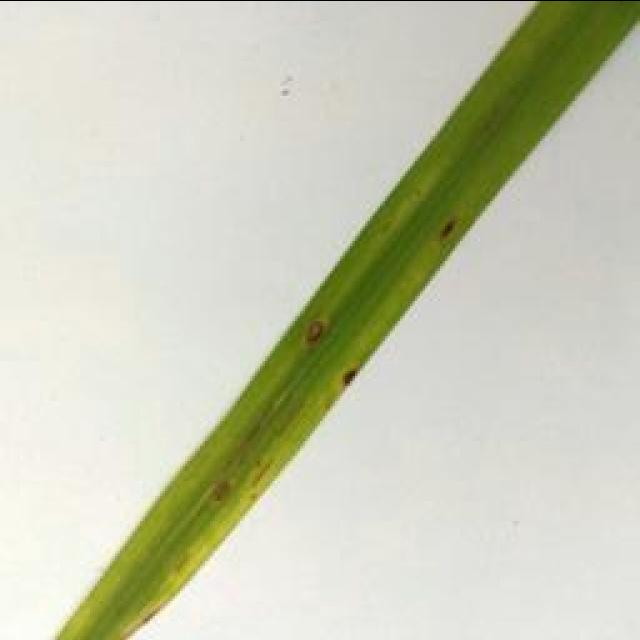Unhealthy: (221, 406, 268, 469), (250, 455, 274, 490), (302, 317, 327, 343), (206, 480, 230, 504), (437, 218, 458, 240), (340, 367, 357, 387)
